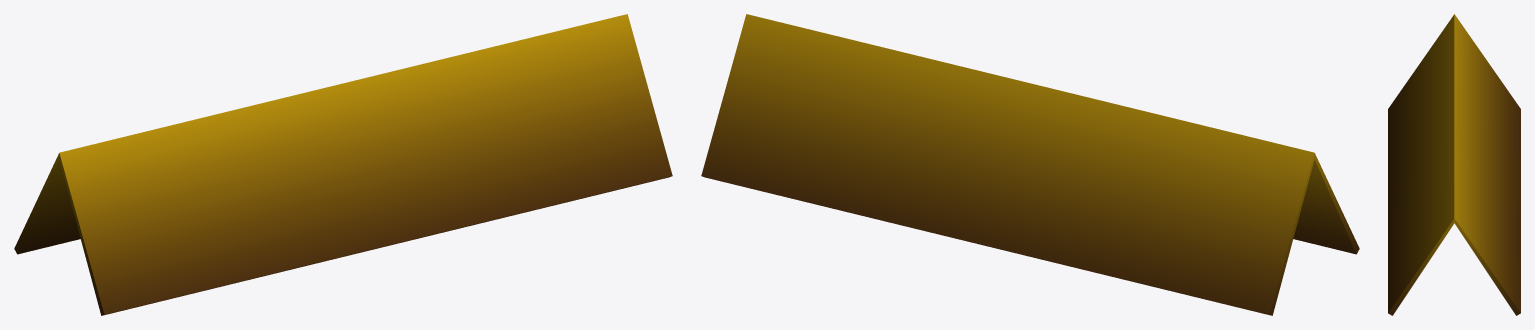
The model's file is NamePlate.fbx.
The picture shows the model from 3 angles, left to right: view 1: azimuth 30°, elevation 25°; view 2: azimuth 150°, elevation 25°; view 3: azimuth 270°, elevation 25°; orthographic projection. The views are drawn at different scales.
Parts seen in each view (by area): view 1: NamePlate; view 2: NamePlate; view 3: NamePlate.
Boxes of the visible parts, <box> form: NamePlate: <box>14,14,672,315</box>; NamePlate: <box>701,14,1359,315</box>; NamePlate: <box>1388,14,1520,315</box>.
Size of the model in its own units: 35.74 by 7.97 by 9.83.
